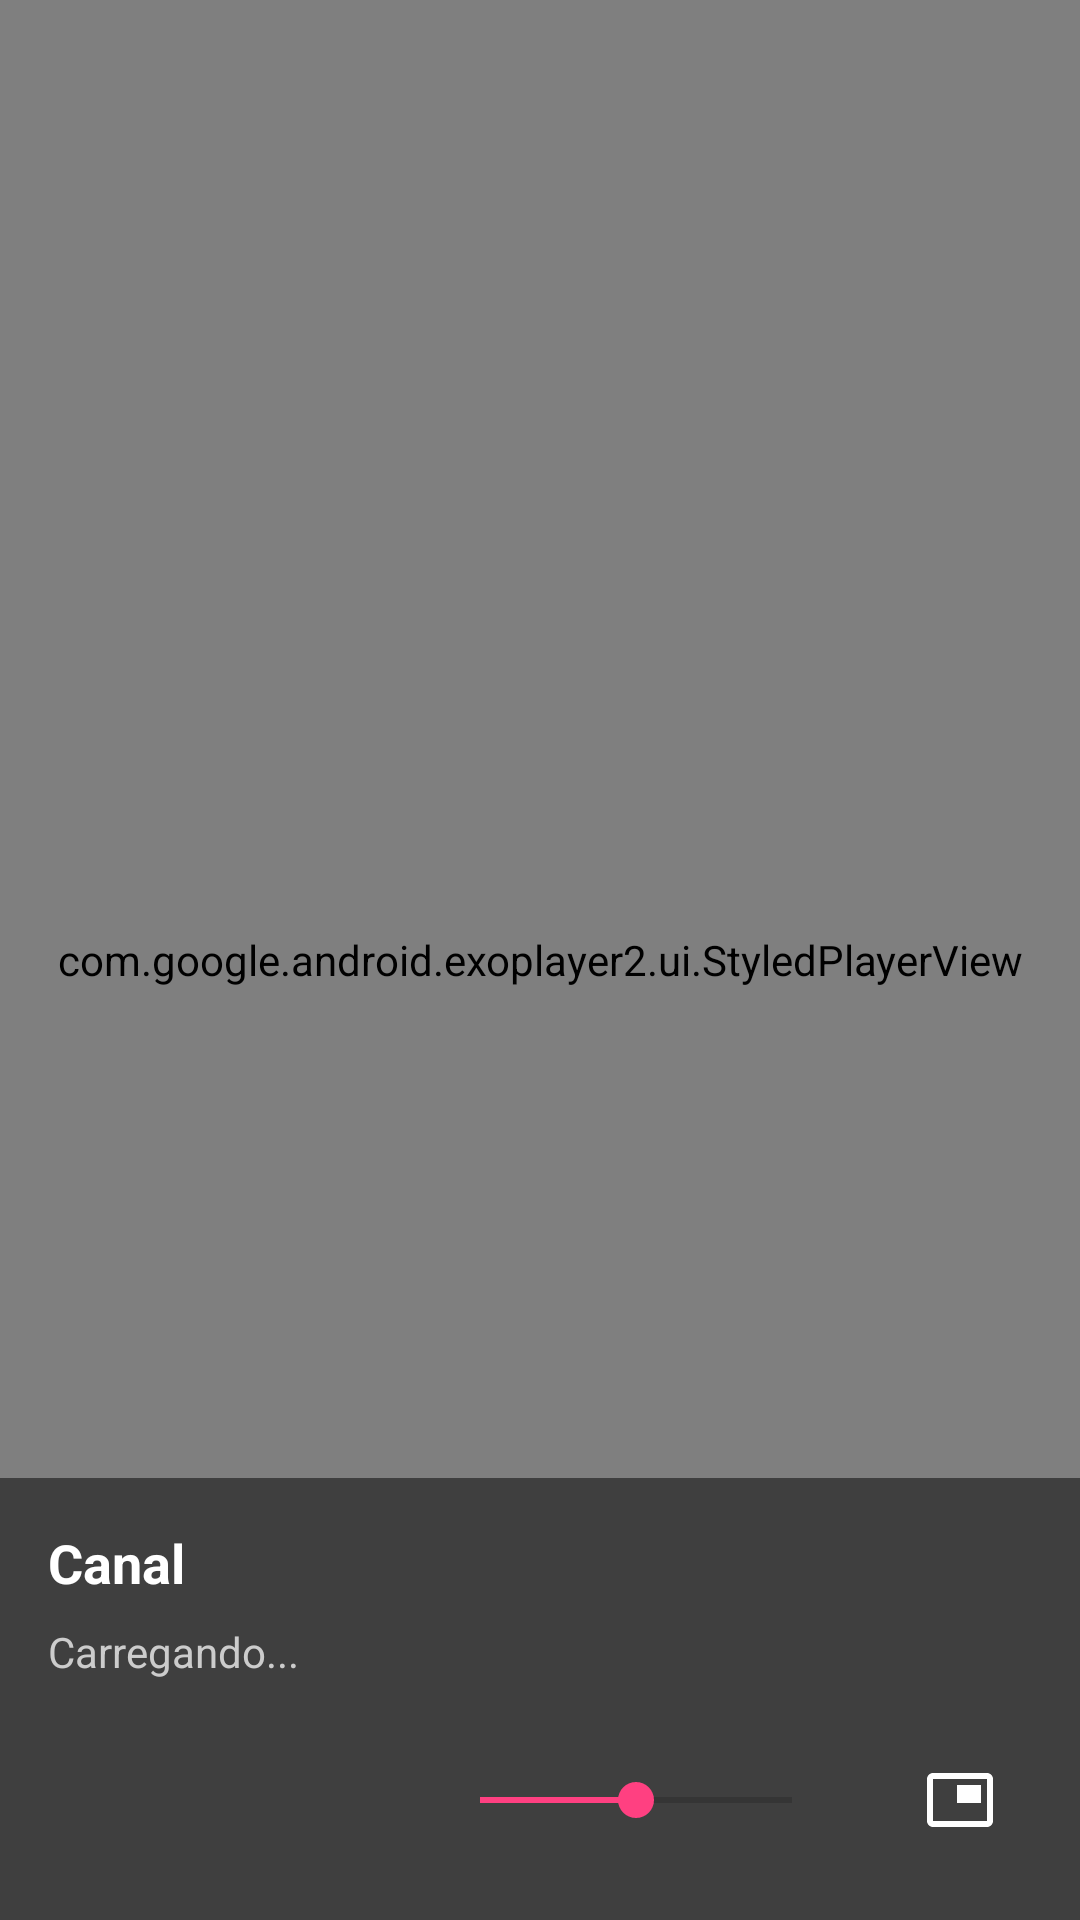

Point at icon controls on the screen. Image size 1080 × 1920, points as point (x, y).
pip: point (960, 1800)
